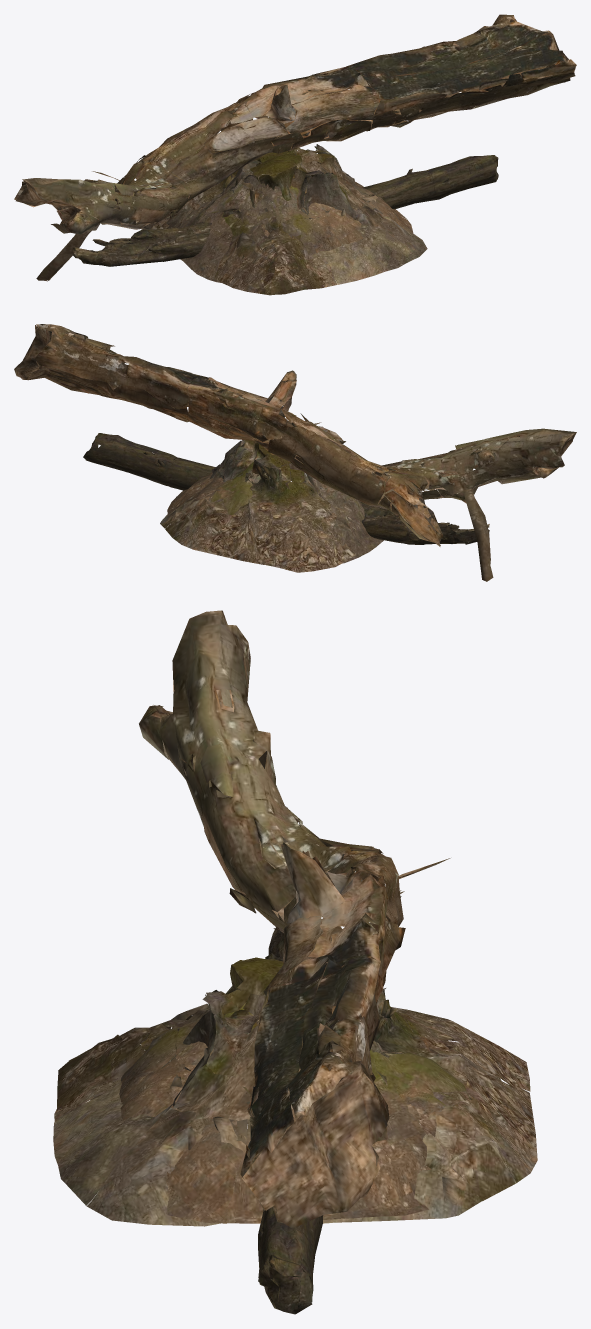
The model's file is deadwood.glb.
3 views of the same model, one above another, from view 1: azimuth 30°, elevation 25°; view 2: azimuth 150°, elevation 25°; view 3: azimuth 270°, elevation 25° (orthographic). The views are drawn at different scales.
Parts seen in each view (by area): view 1: rock_1, rock_2, rock_3, rock_0; view 2: rock_1, rock_2, rock_0, rock_3; view 3: rock_1, rock_2, rock_3, rock_0.
Boxes of the visible parts, x1=… form: rock_1: x1=14, y1=14, x2=576, y2=281; rock_2: x1=151, y1=144, x2=427, y2=295; rock_3: x1=166, y1=160, x2=413, y2=282; rock_0: x1=72, y1=155, x2=498, y2=266; rock_1: x1=14, y1=324, x2=576, y2=581; rock_2: x1=160, y1=440, x2=398, y2=572; rock_0: x1=83, y1=433, x2=489, y2=544; rock_3: x1=167, y1=460, x2=387, y2=563; rock_1: x1=139, y1=610, x2=450, y2=1228; rock_2: x1=53, y1=957, x2=537, y2=1226; rock_3: x1=90, y1=962, x2=501, y2=1223; rock_0: x1=258, y1=927, x2=331, y2=1314.
Size of the model in its own units: 4.04 by 1.05 by 1.59.
4 materials, 4 textured.
